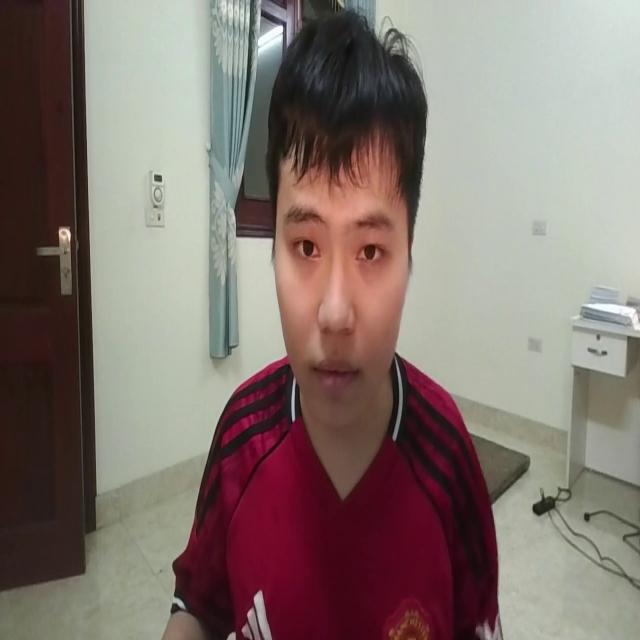student: (153, 4, 500, 640)
